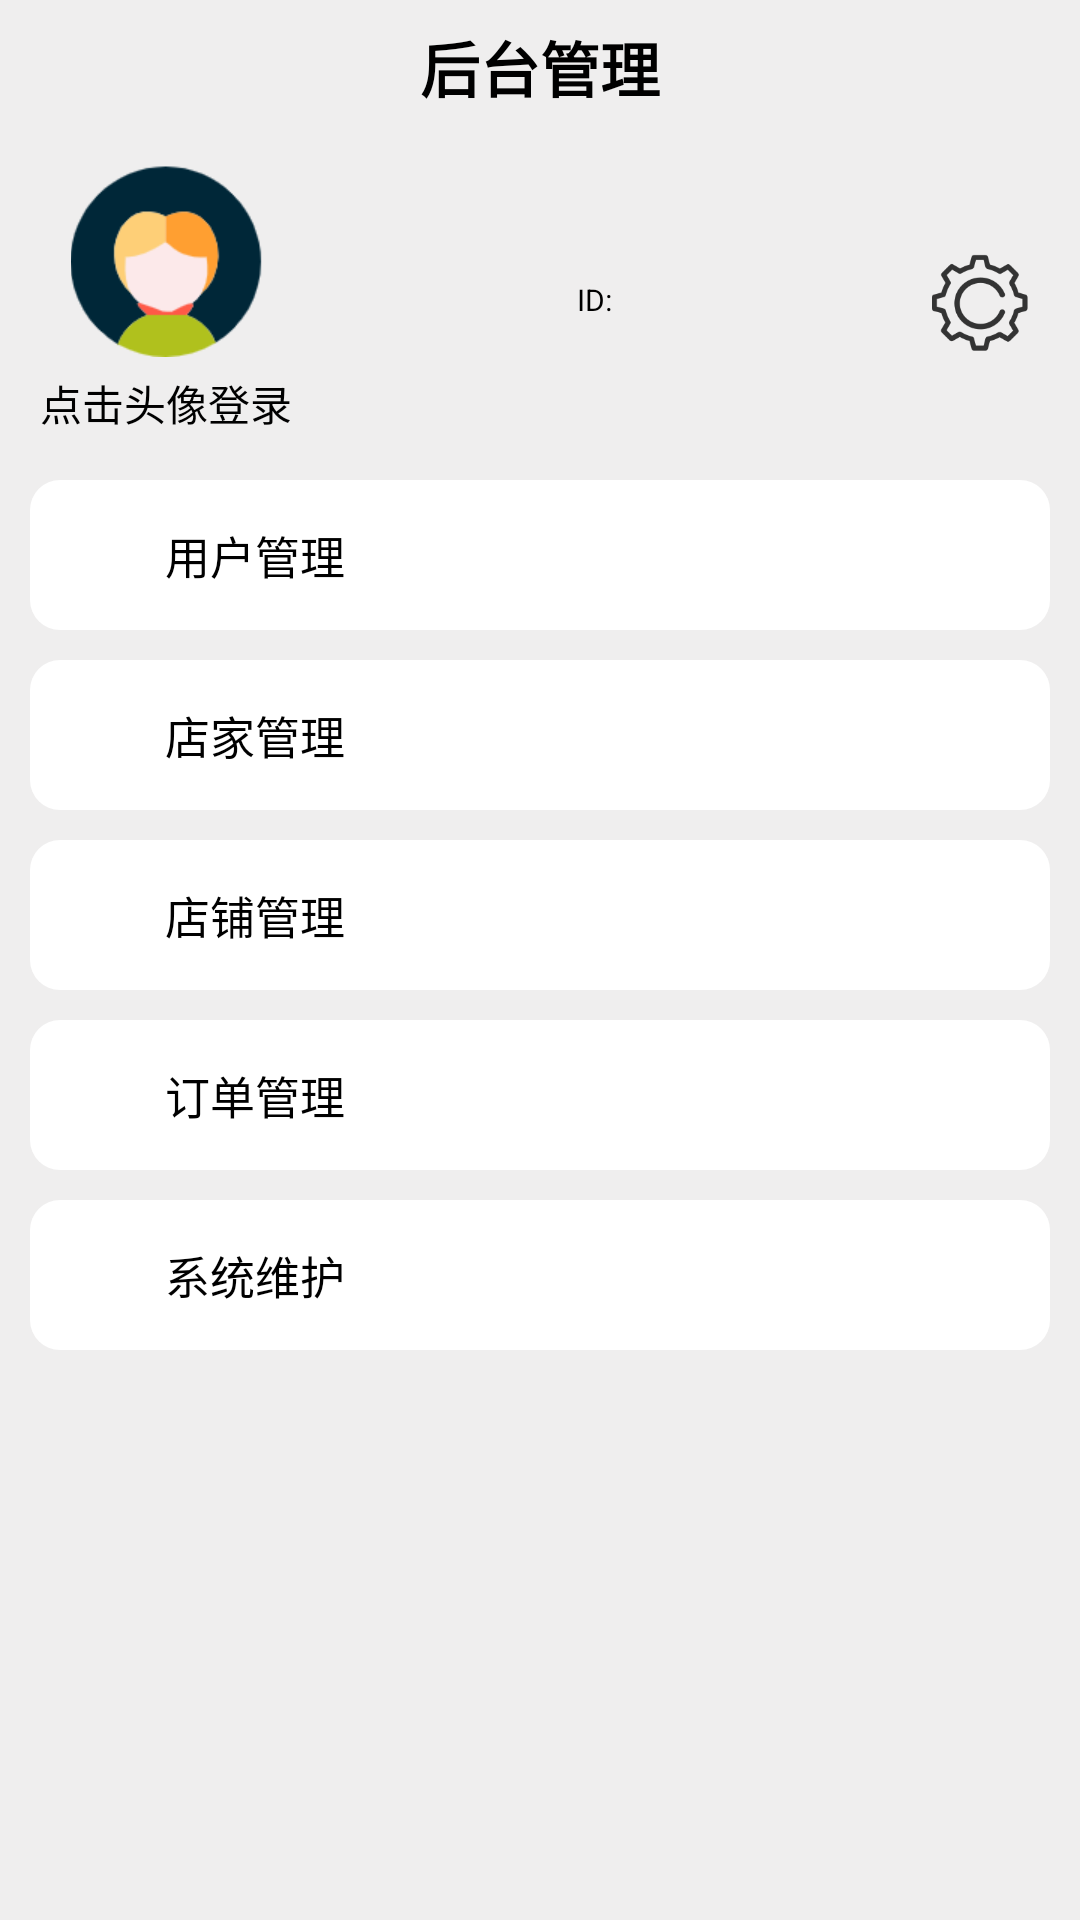

Icon bounding boxes for this 1080px×1920px phone screenshot, format rect(x1, y1, x2, y2):
settings: rect(932, 255, 1028, 351)
